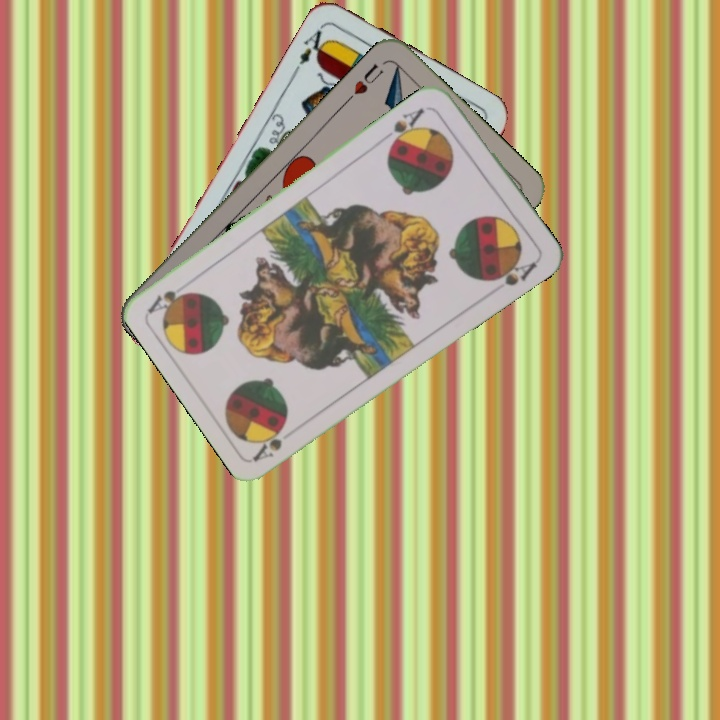EA: (290, 22, 332, 76)
HU: (342, 59, 387, 105)
SA: (380, 104, 427, 149), (250, 418, 290, 463)
